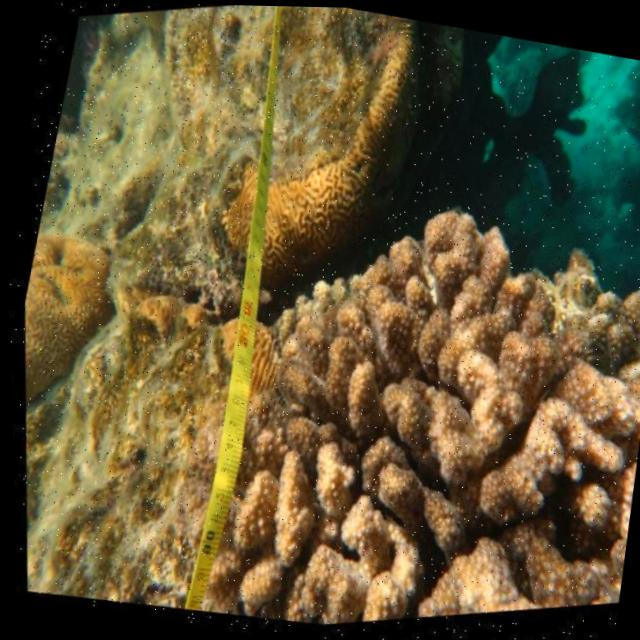Healthy Coral: (190, 174, 640, 640), (249, 4, 428, 307), (8, 232, 124, 411), (189, 314, 237, 419), (239, 321, 283, 429), (214, 162, 258, 253)
